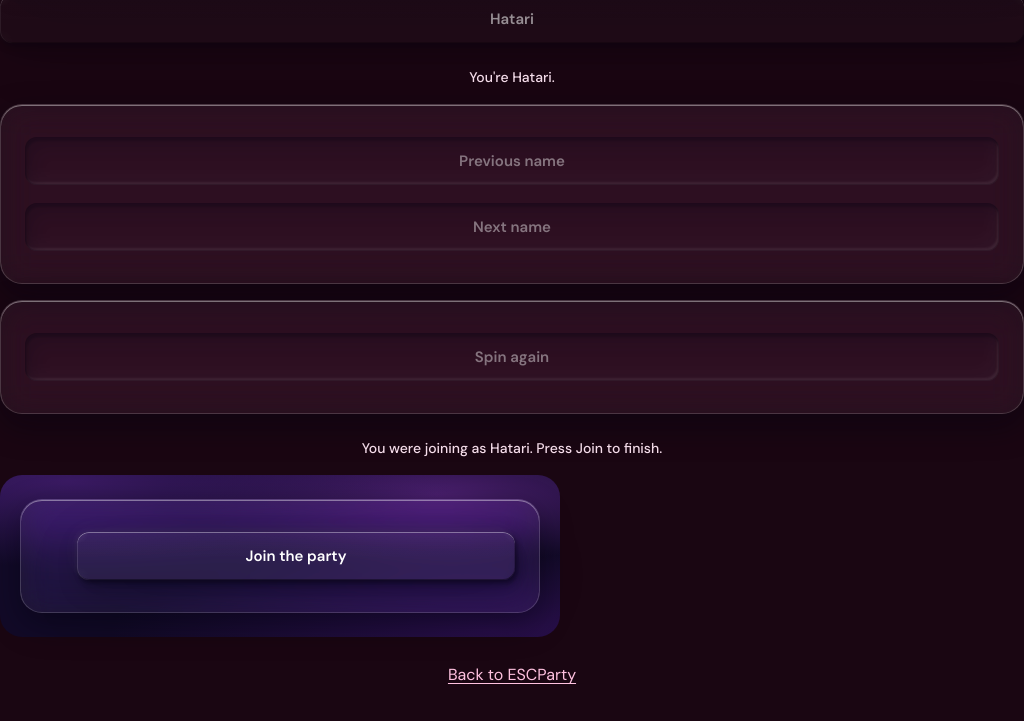
Scenario: NightHome › joining › picks up a join that was sent before a reload, with its own id and name
(page scrolled)
Expected: the text "You were joining as Hatari. Press Join to finish." is shown, [362, 439, 662, 457]
Step 1. Click the button "Join the party" → (296, 556), box [77, 532, 515, 580]
(page scrolled)
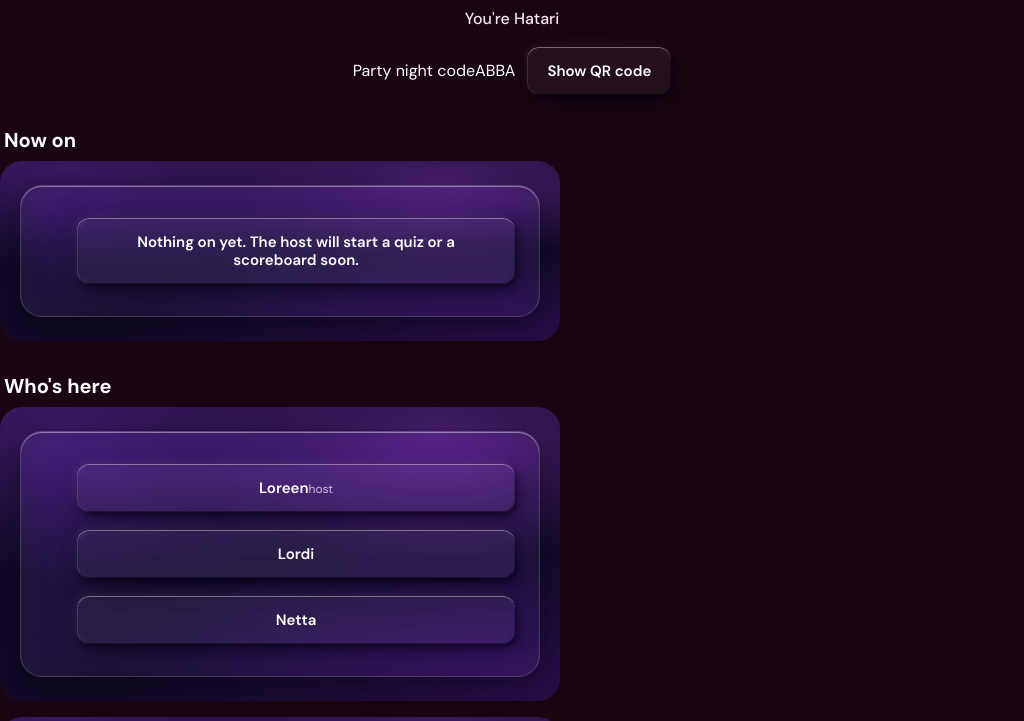
Expected: the text "You're Hatari" is shown, [465, 8, 559, 29]
